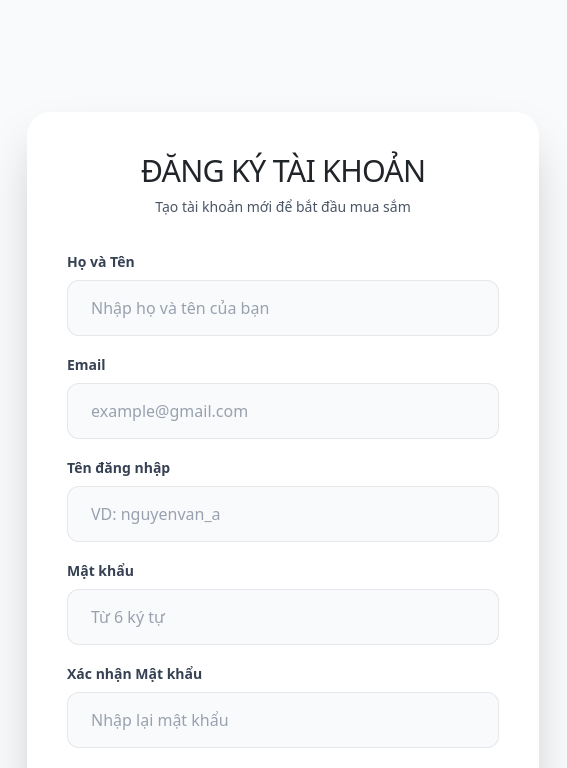
it: Register Component › nên hiển thị trạng thái loading khi đang xử lý
The image size is (567, 768).
In the field with placeholder "Nhập họ và tên của bạn": (283, 308) [67,280,499,336], type "Nguyen Van A"
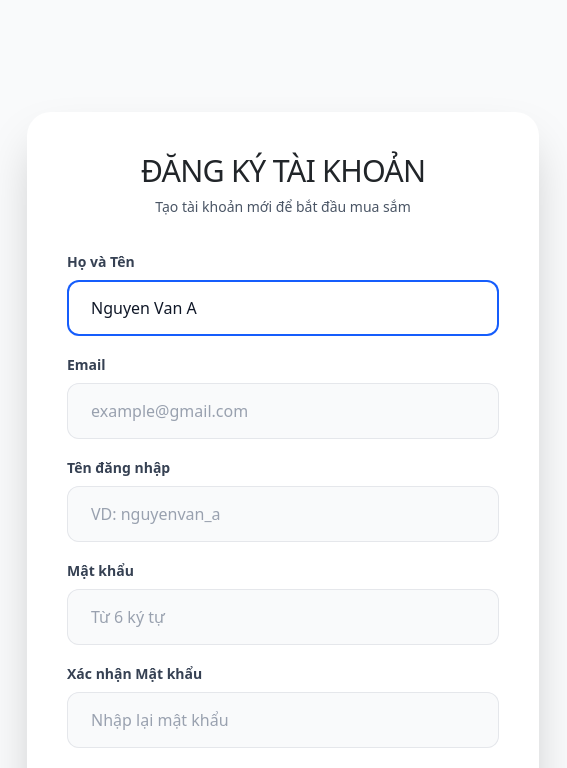
In the field with placeholder "example@gmail.com": (283, 410) [67,382,499,438], type "a@gmail.com"
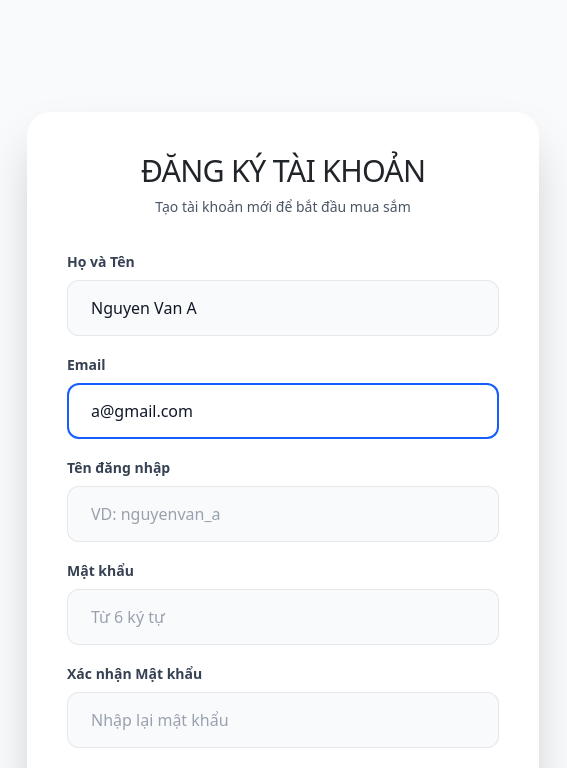
In the field with placeholder "VD: nguyenvan_a": (283, 514) [67,486,499,542], type "vana"
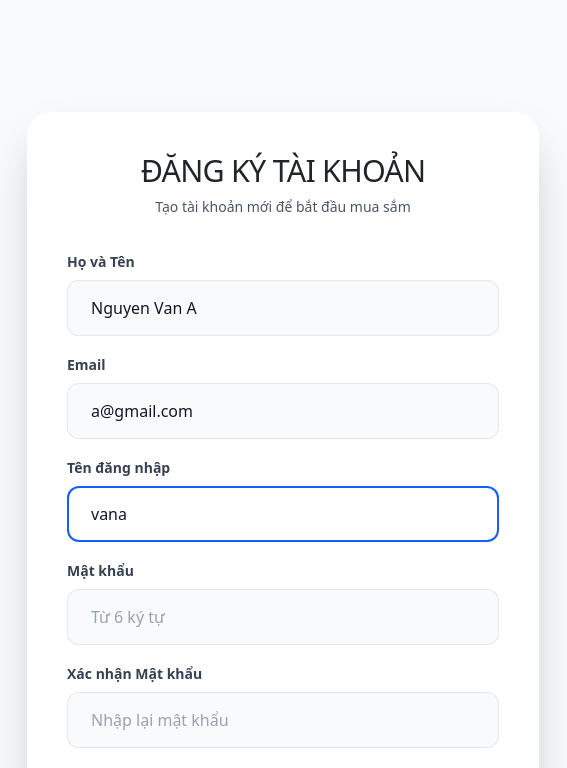
In the password field with test id "reg-password": (283, 616) [67,588,499,644], type "password123"
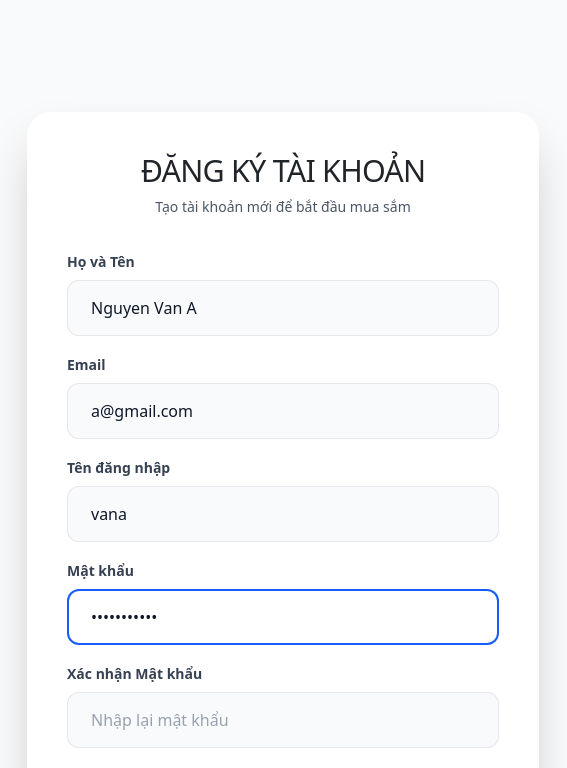
In the password field with test id "reg-confirm-password": (283, 720) [67,692,499,748], type "password123"
(page scrolled)
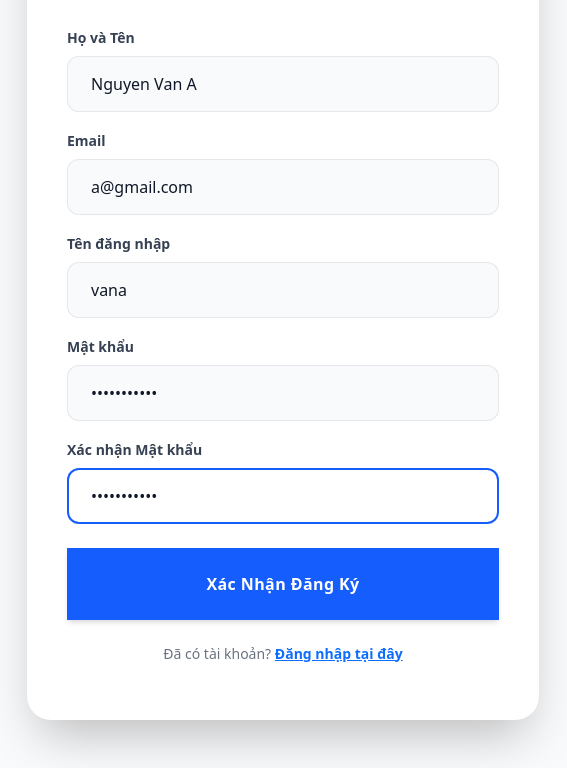
Click the button "Xác Nhận Đăng Ký": click(283, 584) [67,548,499,620]
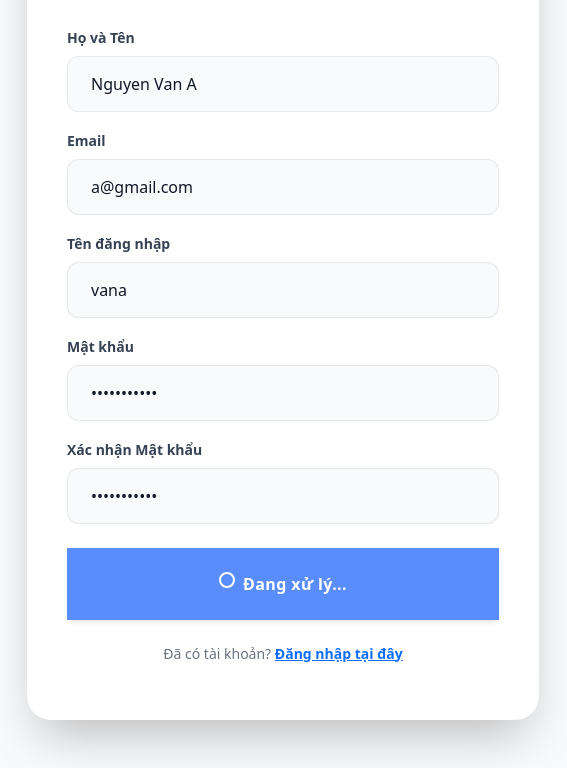
Expected: the button "Đang xử lý..." is shown, [67,548,499,620]
